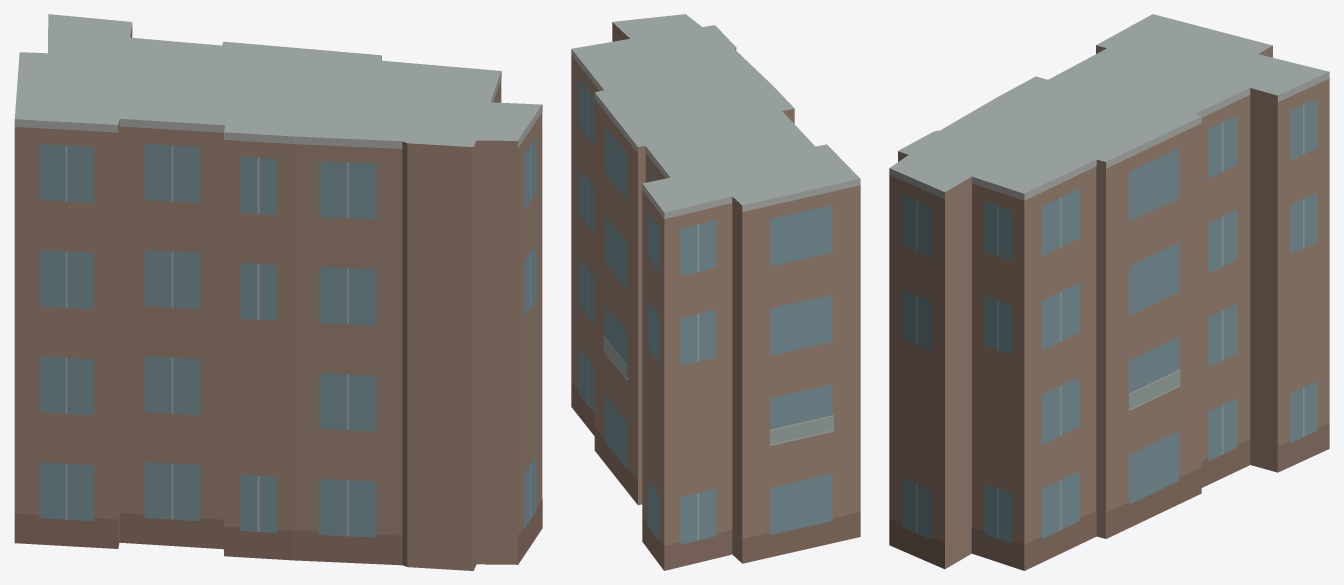
File: survey-upis-32471087.glb
The picture shows the model from 3 angles, left to right: view 1: azimuth 30°, elevation 25°; view 2: azimuth 150°, elevation 25°; view 3: azimuth 270°, elevation 25°; orthographic projection. The views are drawn at different scales.
Parts seen in each view (by area): view 1: survey-upis-32471087.tmp; view 2: survey-upis-32471087.tmp; view 3: survey-upis-32471087.tmp.
Boxes of the visible parts, bbox=[...] form: survey-upis-32471087.tmp: bbox=[14, 14, 542, 570]; survey-upis-32471087.tmp: bbox=[571, 14, 860, 570]; survey-upis-32471087.tmp: bbox=[889, 14, 1329, 570].
Size of the model in its own units: 13.87 by 13.55 by 14.35.
